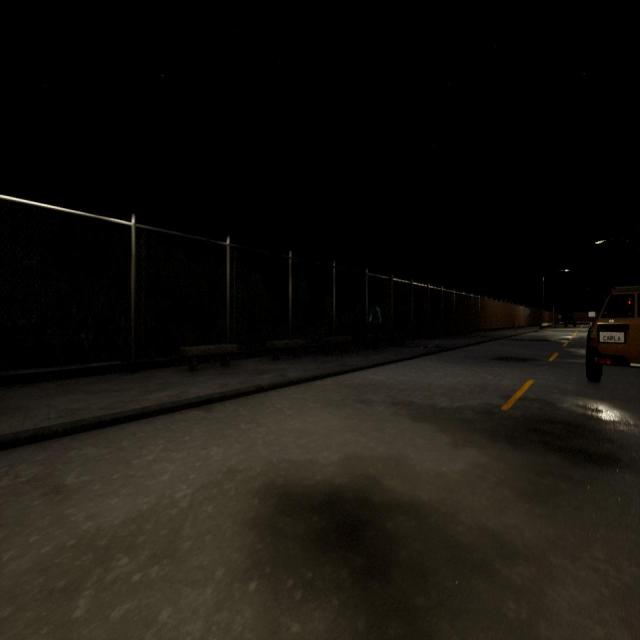Pedestrian: (367, 301, 384, 350)
Vehicle: (586, 286, 640, 382), (555, 310, 577, 328)
traffic_light: (628, 300, 631, 310)
